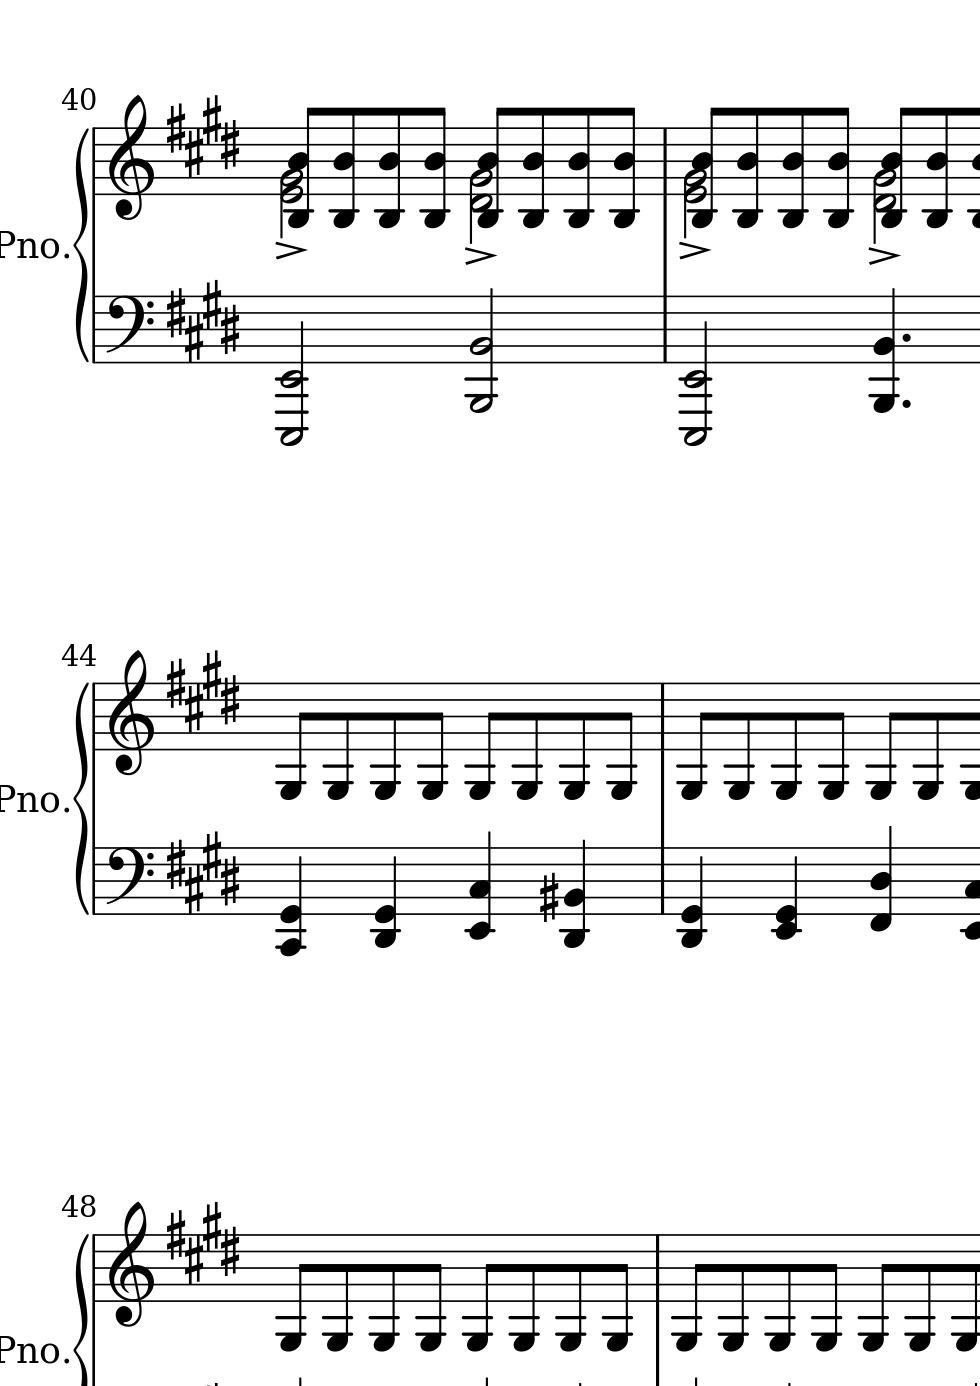0: (78, 85, 97, 115)
2_-5_2: (465, 288, 501, 413)
2_-9_-2: (275, 294, 310, 448), (679, 294, 713, 448)
4: (77, 642, 97, 671), (60, 641, 78, 670), (60, 86, 78, 115), (62, 1192, 78, 1220)
4_-1_4: (868, 826, 895, 932)
4_-2_0: (771, 845, 802, 941)
4_-2_3: (463, 831, 497, 940)
4_-3_0: (370, 845, 402, 948), (678, 847, 708, 949)
4_-3_2: (561, 837, 590, 949)
4_-4_0: (274, 846, 309, 957)
4_-5_2: (870, 287, 902, 415)
8: (78, 1192, 97, 1220)
8_-3_4: (519, 106, 548, 229), (923, 105, 952, 228), (330, 106, 358, 229), (374, 105, 403, 228), (419, 104, 448, 227), (565, 105, 594, 228), (611, 105, 640, 228), (733, 104, 762, 227), (777, 104, 806, 227), (822, 104, 851, 227)
8_-5: (462, 1232, 498, 1354), (275, 1232, 311, 1353), (276, 680, 311, 802), (465, 680, 500, 802), (671, 1232, 706, 1354), (858, 1232, 893, 1354), (867, 681, 902, 802), (677, 680, 711, 801), (370, 679, 402, 800), (322, 1232, 354, 1352), (718, 1231, 750, 1351), (323, 679, 354, 802), (603, 1231, 634, 1354), (765, 1231, 795, 1354), (415, 1233, 447, 1352), (608, 680, 638, 802), (369, 1231, 400, 1353), (905, 1232, 935, 1354), (556, 1231, 587, 1352), (560, 679, 590, 803), (509, 1232, 540, 1351), (418, 680, 448, 802), (725, 679, 755, 801), (772, 679, 802, 801), (819, 680, 848, 802), (914, 680, 944, 802), (812, 1232, 842, 1353), (513, 679, 542, 801), (951, 1233, 978, 1351)
Accent_above: (460, 244, 497, 267), (865, 244, 902, 267), (272, 240, 308, 262), (676, 240, 712, 262)
Brace: (71, 124, 91, 366), (71, 687, 90, 915)
E_S: (164, 90, 238, 183), (163, 832, 240, 915), (167, 652, 239, 736), (167, 280, 240, 362)
Fclef: (103, 294, 155, 367), (103, 846, 156, 917)
Gclef: (106, 647, 156, 779), (106, 1198, 156, 1330), (106, 93, 154, 224)
Pno: (1, 1331, 60, 1369), (1, 227, 60, 264), (1, 780, 59, 818)
Sharp: (536, 870, 560, 925)
Single_barline: (648, 1234, 667, 1302), (653, 683, 671, 751), (655, 128, 673, 195), (655, 296, 673, 363), (653, 848, 671, 915), (88, 683, 102, 751), (88, 847, 102, 915), (88, 129, 102, 196), (88, 296, 102, 363), (88, 1235, 101, 1302)
dot: (899, 398, 913, 411), (900, 331, 913, 344)
